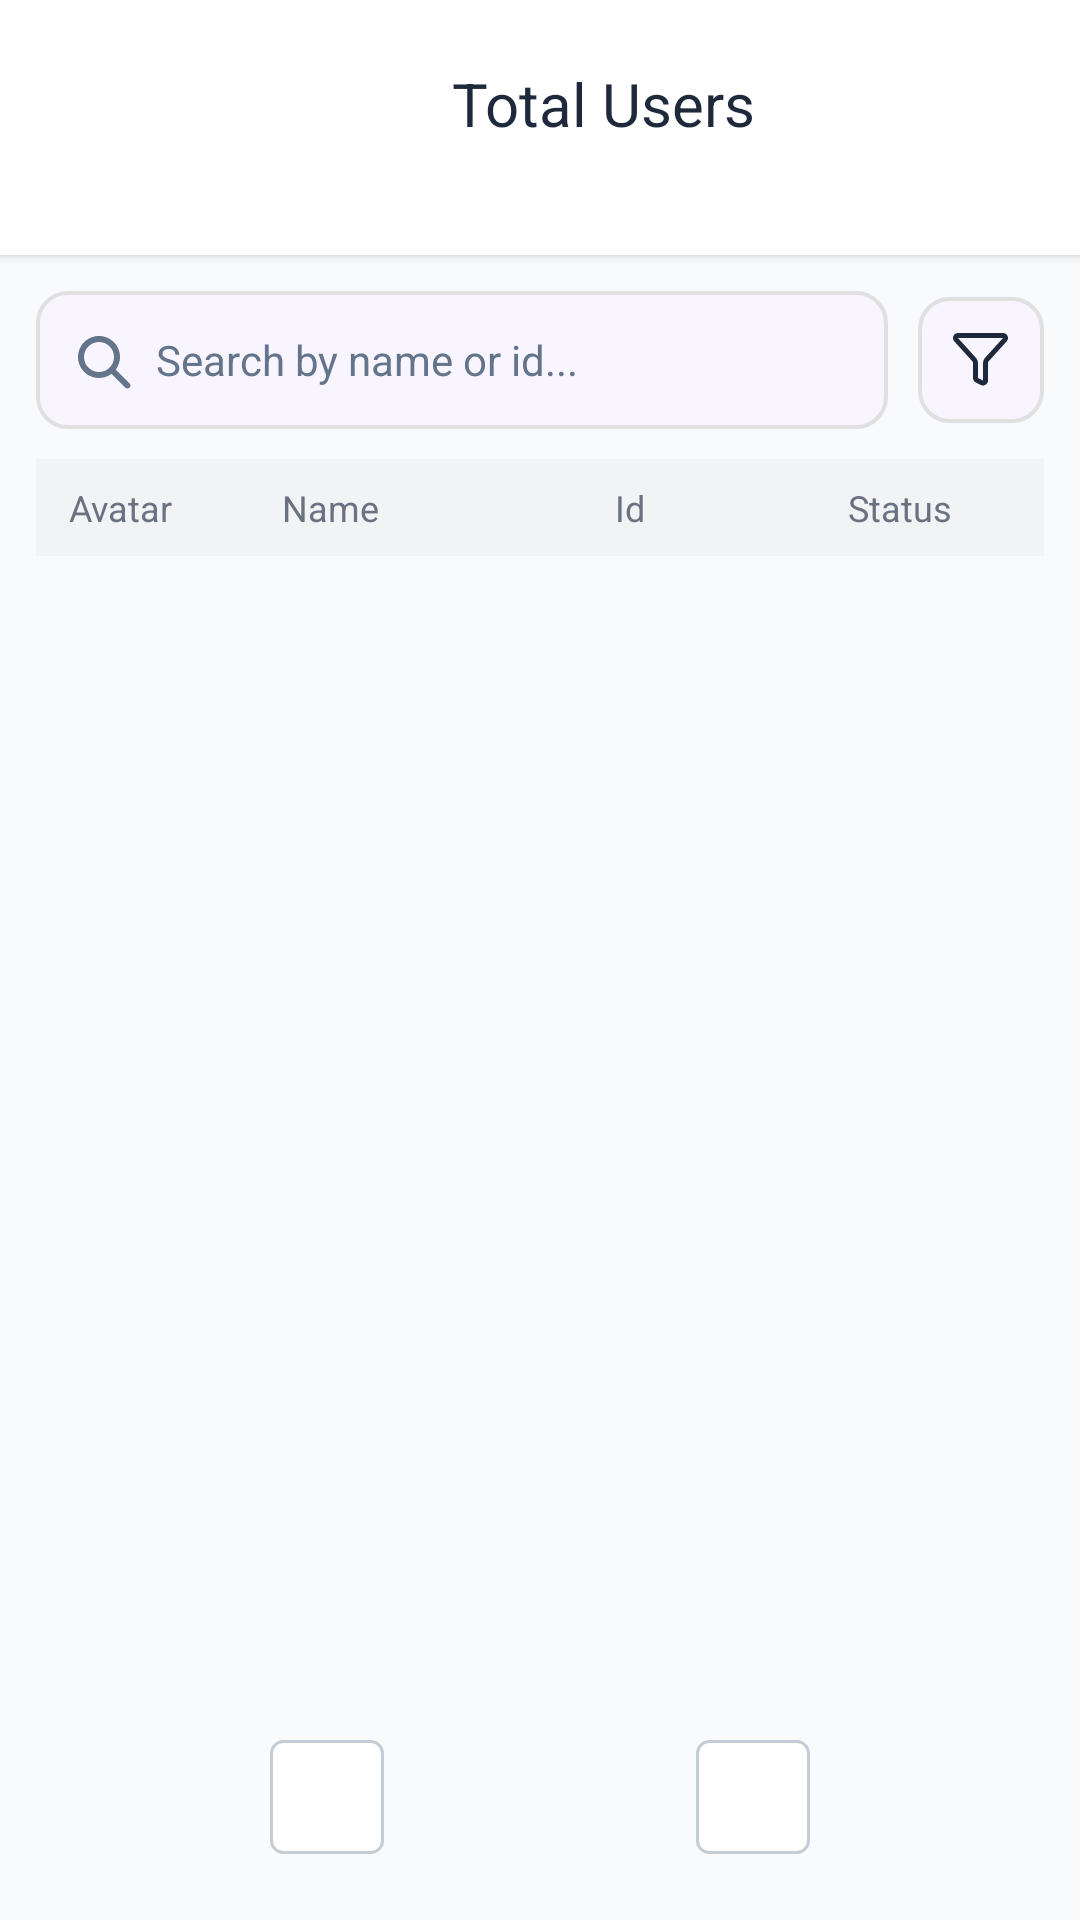

Screen size 1080px x 1920px. Icon name, then its center in pixels as (x,y):
Filter: (981,360)
